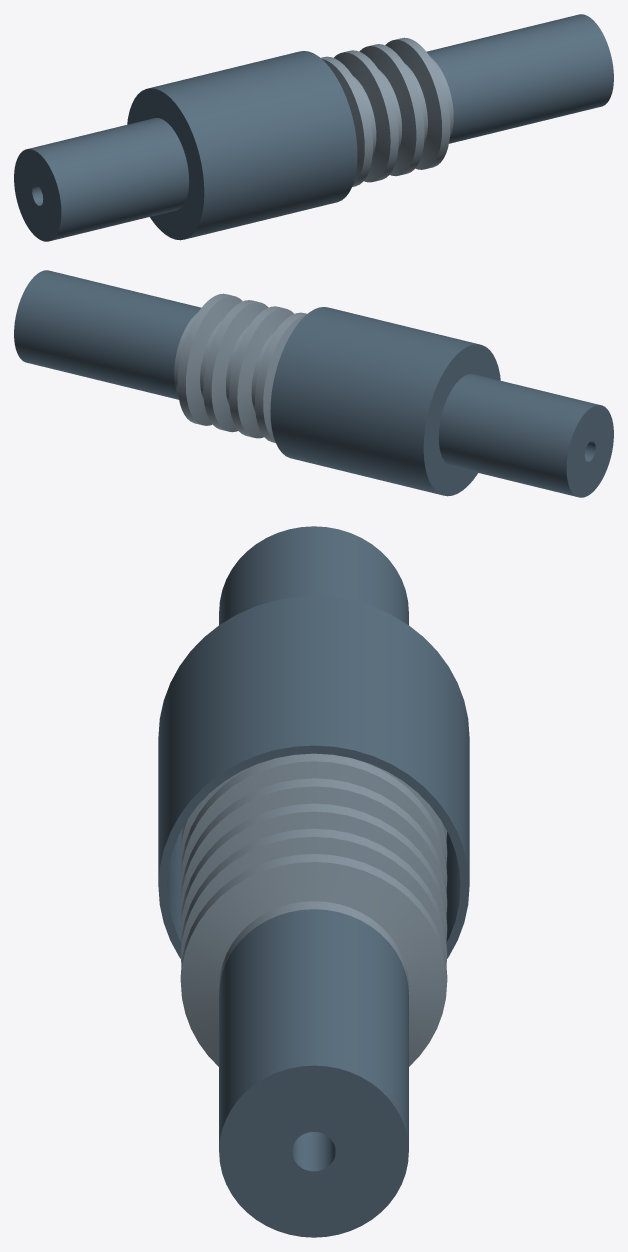
The model's file is silf-dn32-L285-D42_4-k-o60_3.glb.
The picture shows the model from 3 angles, top to bottom: view 1: azimuth 30°, elevation 25°; view 2: azimuth 150°, elevation 25°; view 3: azimuth 270°, elevation 25°; orthographic projection. The views are drawn at different scales.
Parts seen in each view (by area): view 1: osnovanie_kozhuh_1, patrubok_1, patrubok_2, prokladka_silfon_1; view 2: osnovanie_kozhuh_1, patrubok_1, patrubok_2, prokladka_silfon_1; view 3: patrubok_2, osnovanie_kozhuh_1, prokladka_silfon_1, patrubok_1.
Boxes of the visible parts, <box> form: osnovanie_kozhuh_1: <box>127,51,357,240</box>; patrubok_1: <box>14,118,189,241</box>; patrubok_2: <box>426,14,613,143</box>; prokladka_silfon_1: <box>321,37,453,186</box>; osnovanie_kozhuh_1: <box>270,307,500,496</box>; patrubok_1: <box>438,374,613,497</box>; patrubok_2: <box>14,270,201,399</box>; prokladka_silfon_1: <box>174,293,306,442</box>; patrubok_2: <box>219,909,408,1237</box>; osnovanie_kozhuh_1: <box>158,596,469,958</box>; prokladka_silfon_1: <box>180,753,447,1066</box>; patrubok_1: <box>219,526,408,624</box>.
Bounding box in the file's own units: 285 × 69.49 × 69.49.
